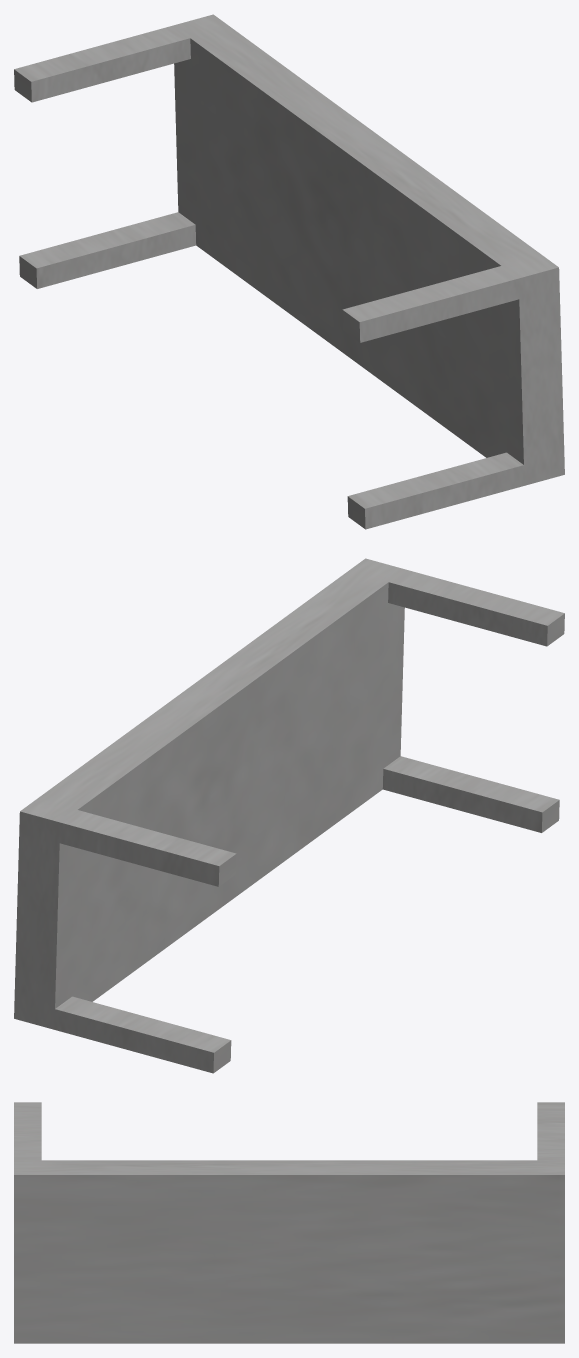
File: Silla.fbx
3 views of the same model, one above another, from view 1: azimuth 30°, elevation 25°; view 2: azimuth 150°, elevation 25°; view 3: azimuth 270°, elevation 25° (orthographic). The views are drawn at different scales.
Visible parts, largest first — view 1: Bangku; view 2: Bangku; view 3: Bangku.
Boxes of the visible parts, box(x1,y1,x2,y2) form: Bangku: box(14, 14, 564, 529); Bangku: box(14, 558, 564, 1073); Bangku: box(14, 1102, 564, 1343).
Bounding box in the file's own units: 51.45 × 51.45 × 150.
Materials: 1 (1 with a texture image).
